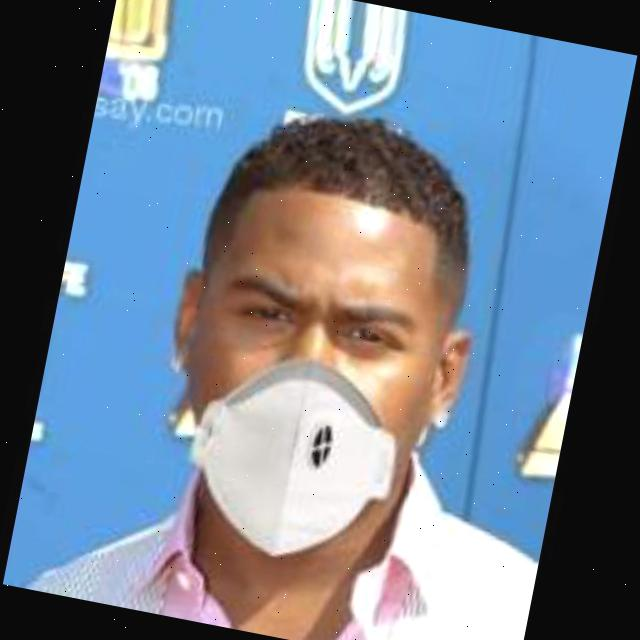suspicion: (126, 104, 528, 592)
